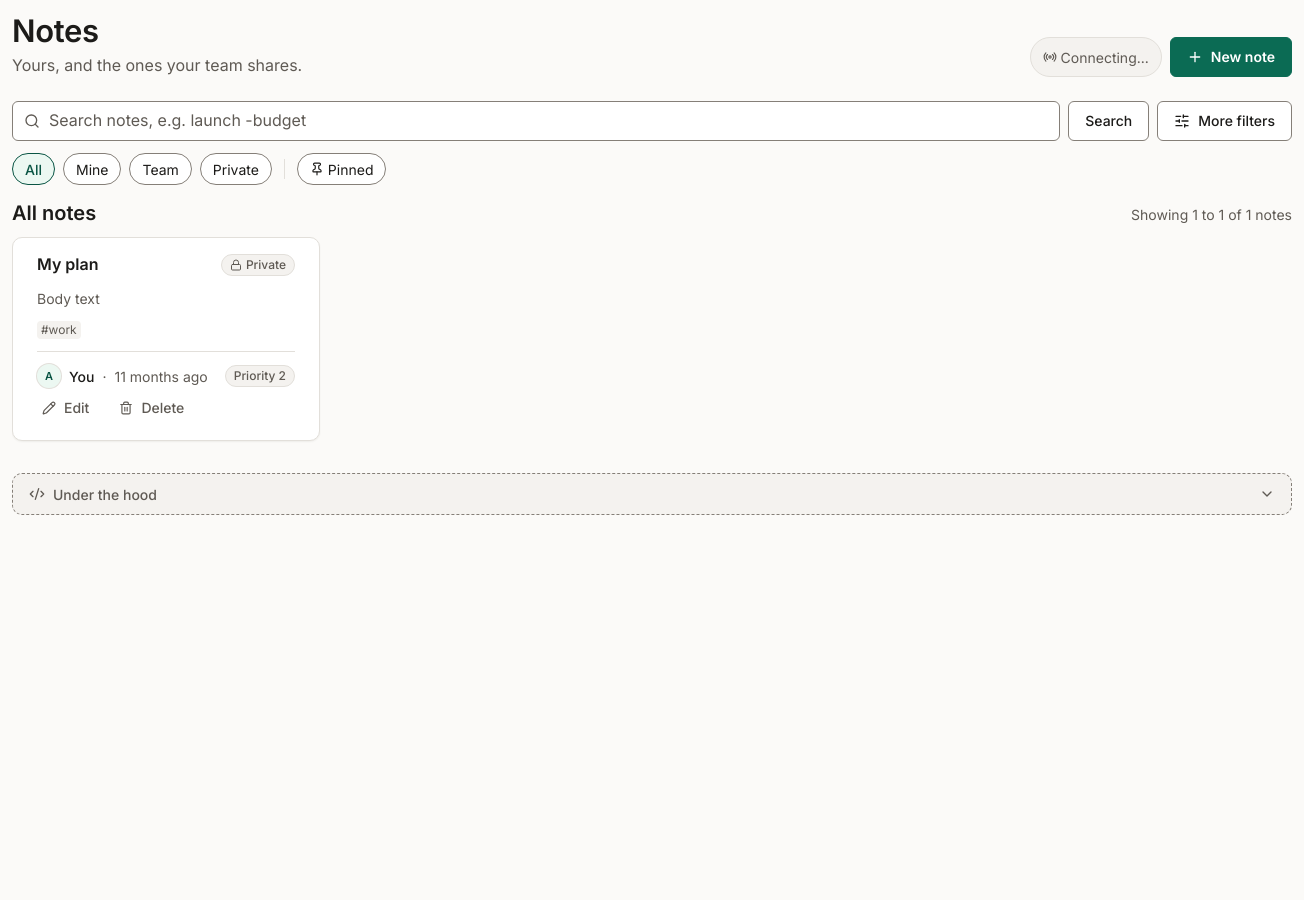
Test case: NotesPage › shows the server error when saving fails
Check: the heading "My plan" is shown, box [37,254,98,276]
Click the button "New note" at [1231, 57], box [1170,37,1292,77]
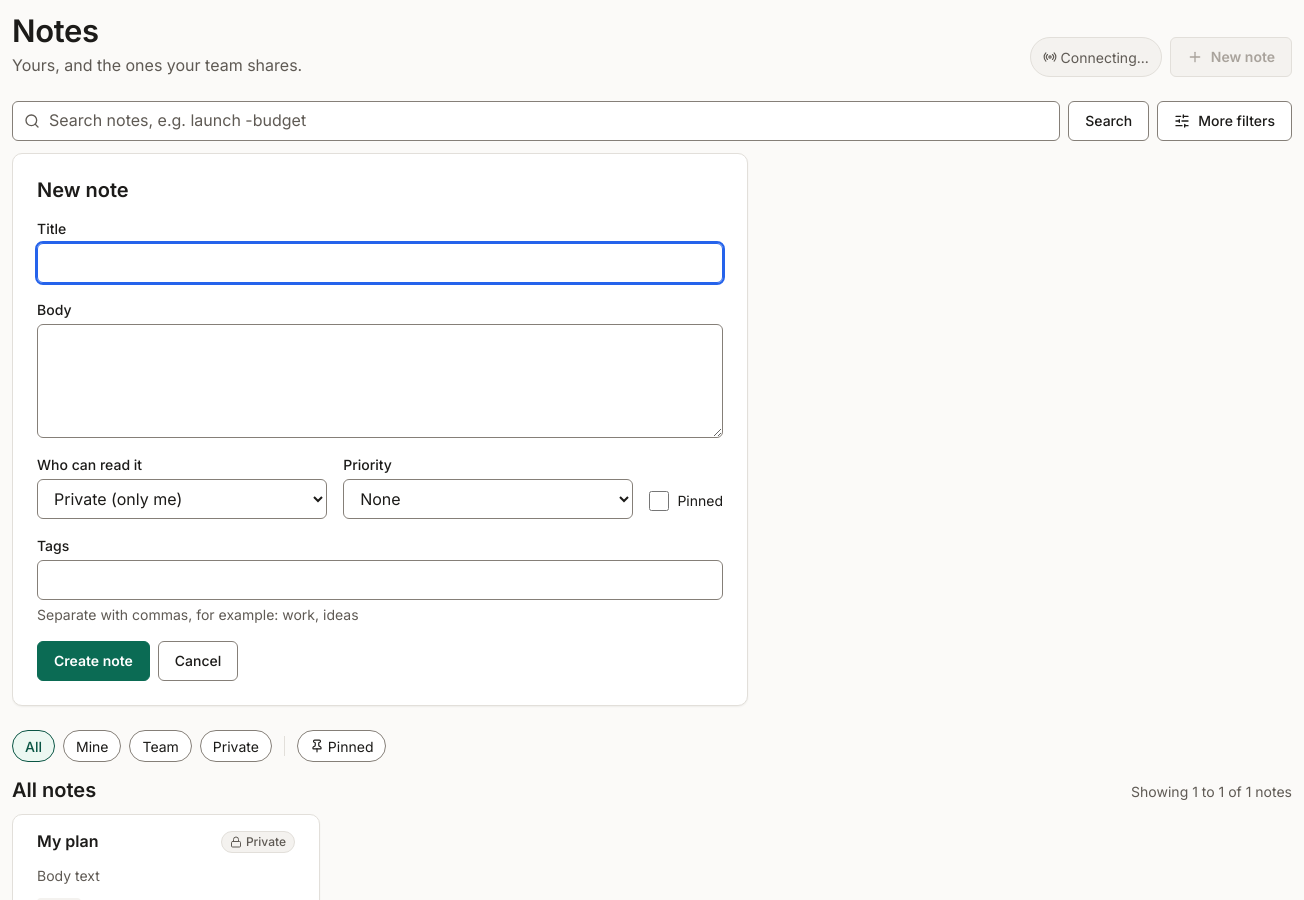
Type "x" into the field labelled "Title" at [380, 263], box [37,243,723,283]
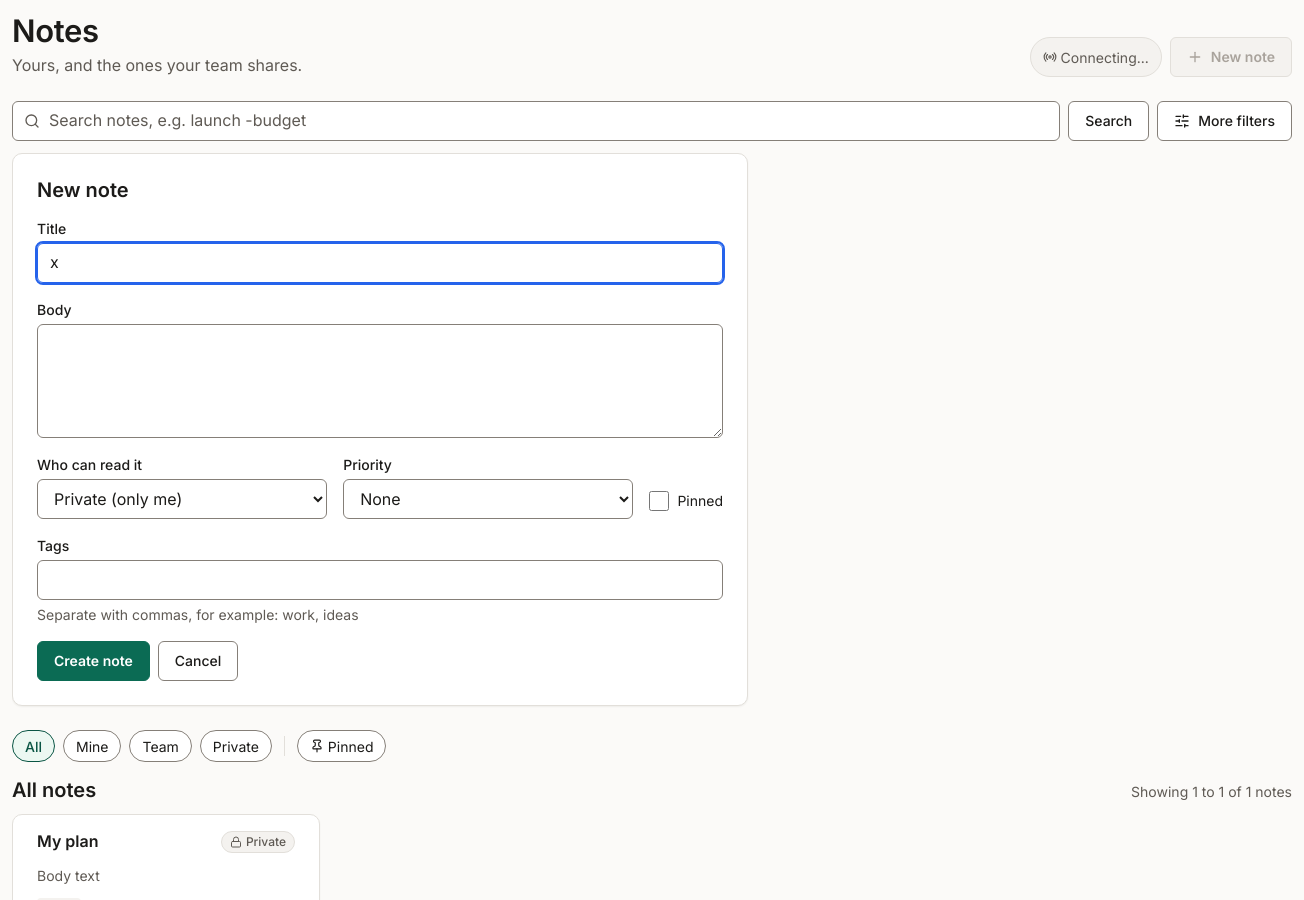
Click the button "Create note" at [93, 661], box [37,641,150,681]
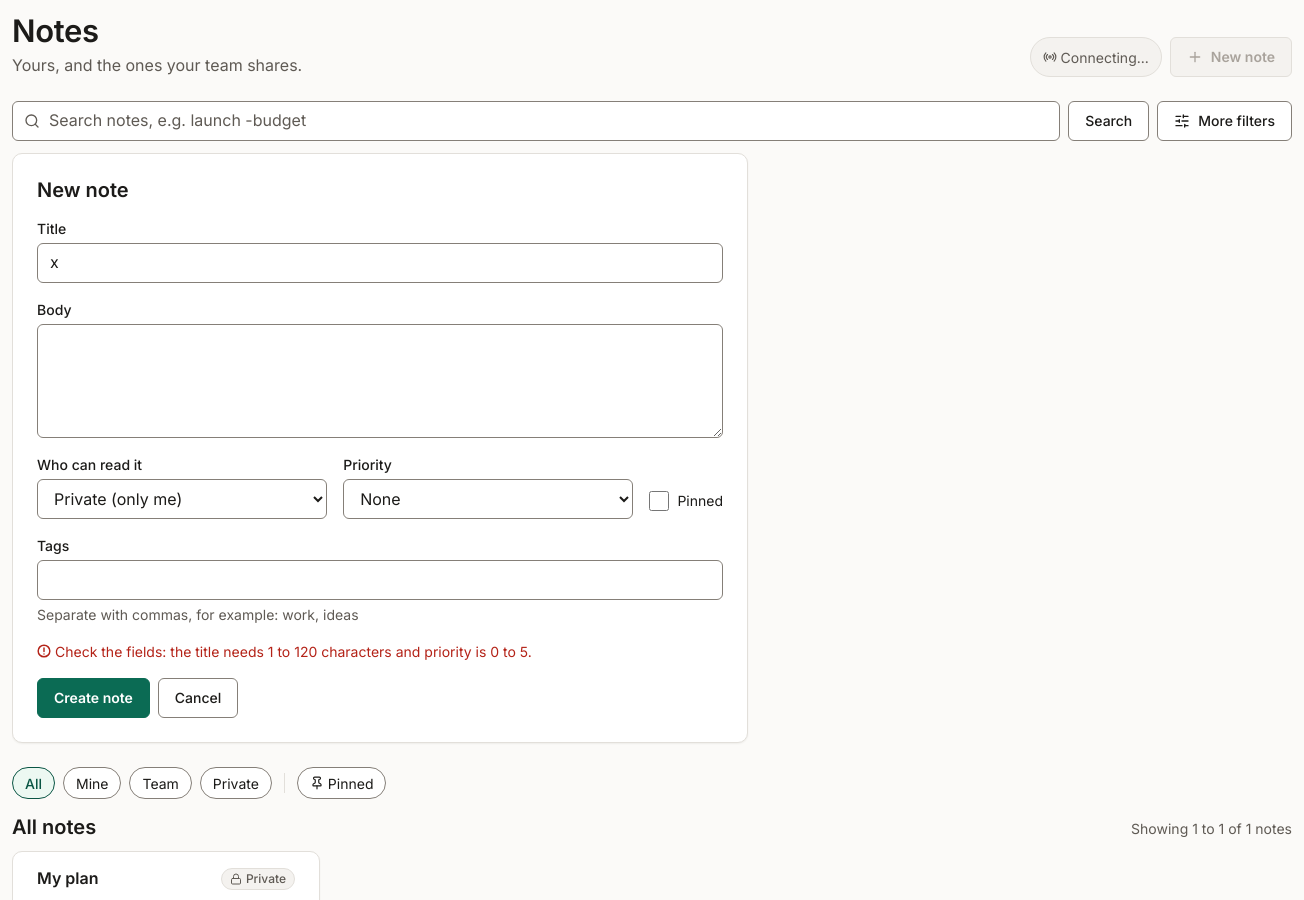
Check: the message "Check the fields: the title needs 1 to 120 characters and priority is 0 to 5." is shown, box [55,643,532,660]
